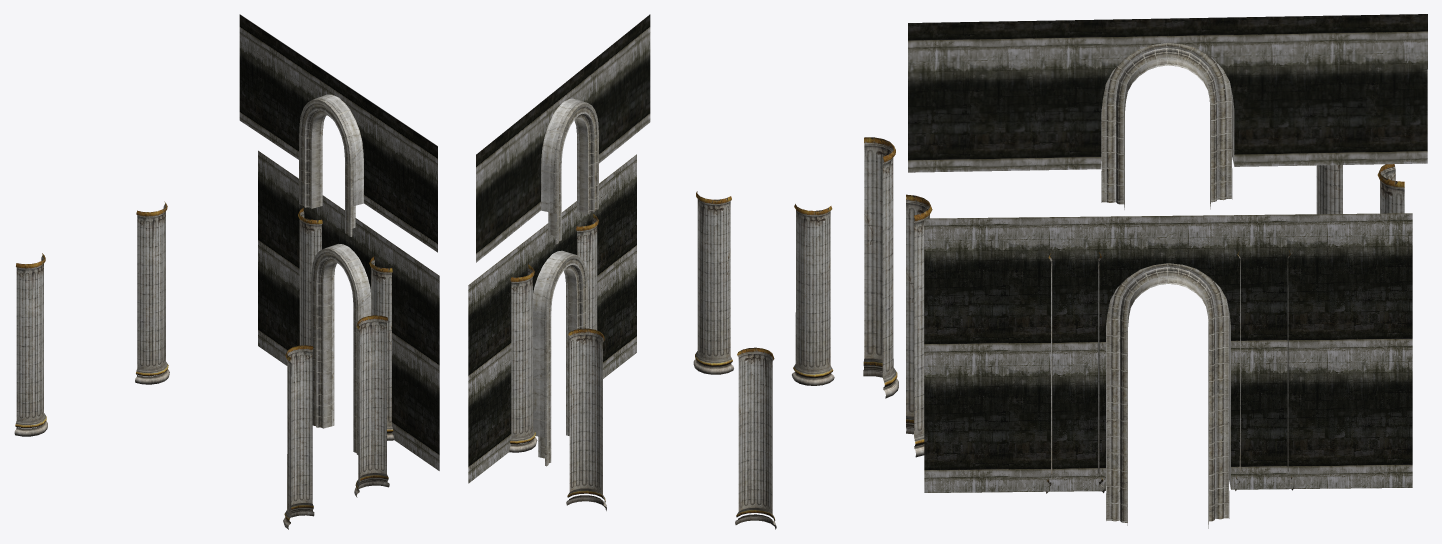
Rendered from Hallway_ExitWall.FBX.
3 views of the same model, side by side, from view 1: azimuth 30°, elevation 25°; view 2: azimuth 150°, elevation 25°; view 3: azimuth 270°, elevation 25° (orthographic). The views are drawn at different scales.
Visible parts, largest first — view 1: SM_L_Hallway_ExitWall; view 2: SM_L_Hallway_ExitWall; view 3: SM_L_Hallway_ExitWall.
Part boxes in pixels (x1,y1,x2,y2): SM_L_Hallway_ExitWall: [14, 14, 439, 529]; SM_L_Hallway_ExitWall: [468, 14, 834, 529]; SM_L_Hallway_ExitWall: [863, 14, 1427, 528].
Size of what is drawn, in the model's own units: 834 by 1032 by 1015.
